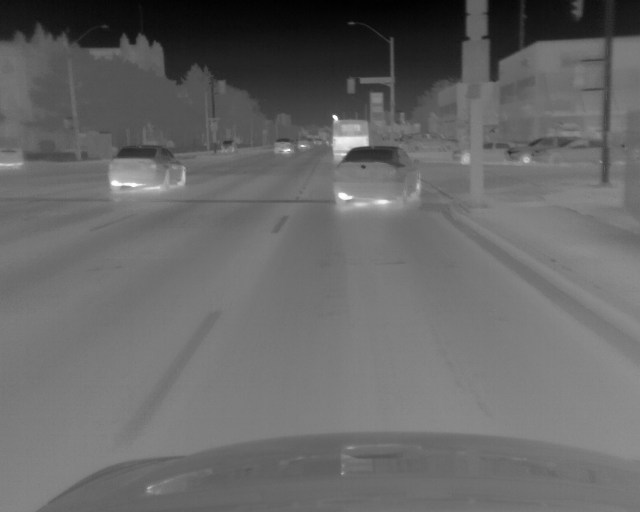car: (333, 144, 422, 209), (106, 146, 185, 192), (536, 136, 607, 167), (331, 119, 368, 165), (507, 137, 568, 163), (452, 141, 505, 167), (1, 140, 26, 167), (273, 137, 295, 155), (218, 138, 236, 153), (296, 136, 311, 150)
